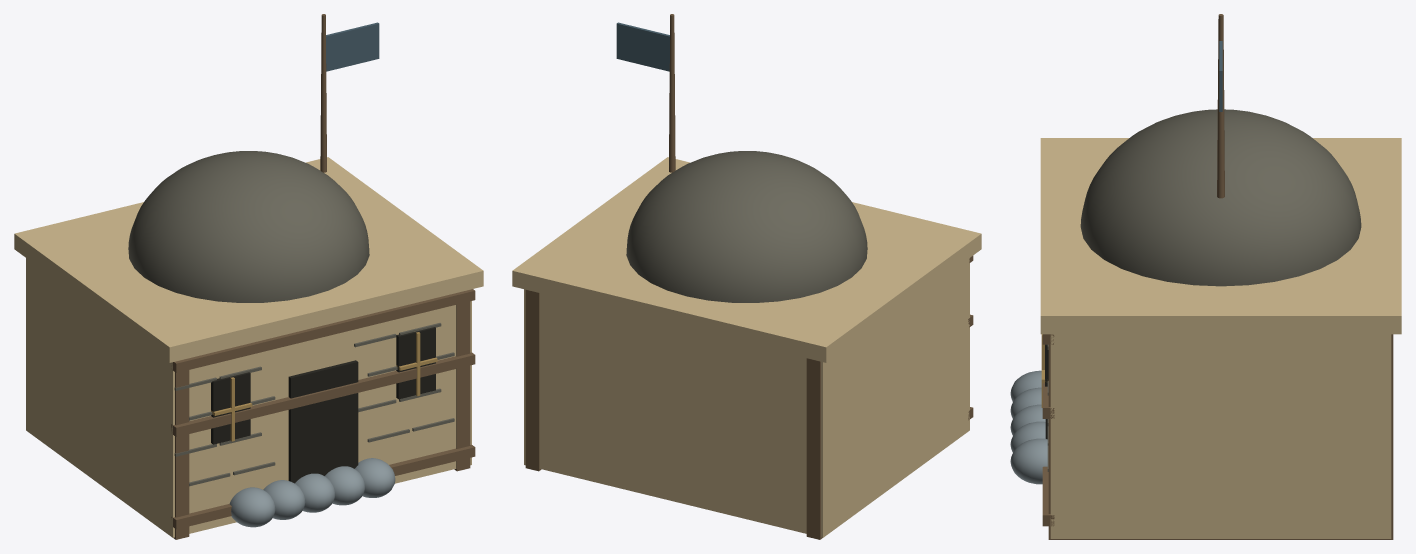
Rendered from b-mine-ayyubid.glb.
3 renders of one model, left to right at view 1: azimuth 30°, elevation 25°; view 2: azimuth 150°, elevation 25°; view 3: azimuth 270°, elevation 25°, orthographic. The views are drawn at different scales.
Visible parts, largest first — view 1: Structure; view 2: Structure; view 3: Structure.
Part boxes in pixels (left/top/right/bottom): Structure: left=14, top=14, right=483, bottom=539; Structure: left=512, top=14, right=981, bottom=539; Structure: left=1010, top=14, right=1401, bottom=539.
Size of the model in its own units: 4.2 by 5.33 by 3.9.
